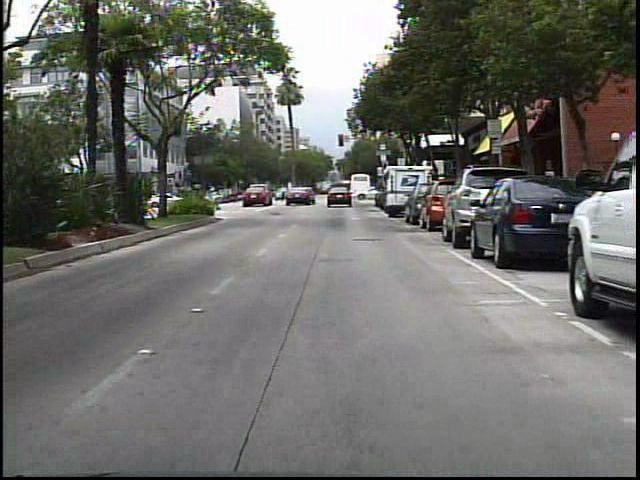person: (278, 181, 292, 205), (293, 183, 307, 205)
